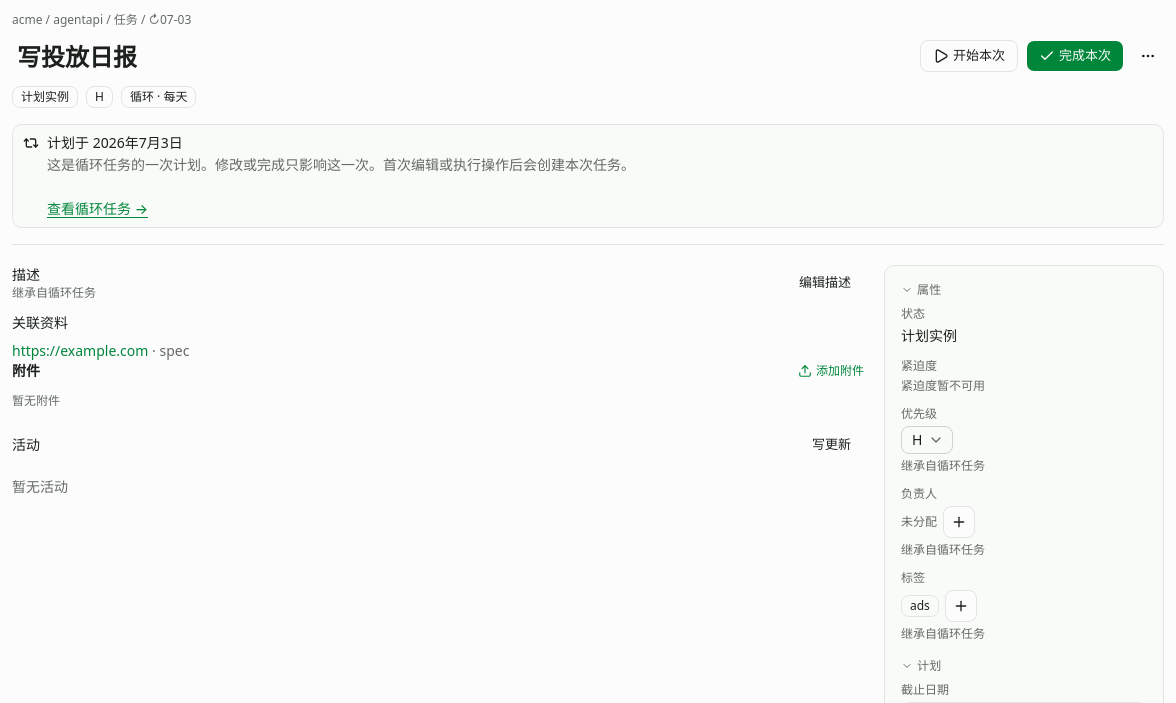
it: TaskDetailPage › keeps creation entries out of a projected occurrence's more-actions menu
This screenshot has width=1176, height=703.
Click the button named "更多操作 ↻07-03". click: point(1148, 56)
box: [1132,40,1164,72]
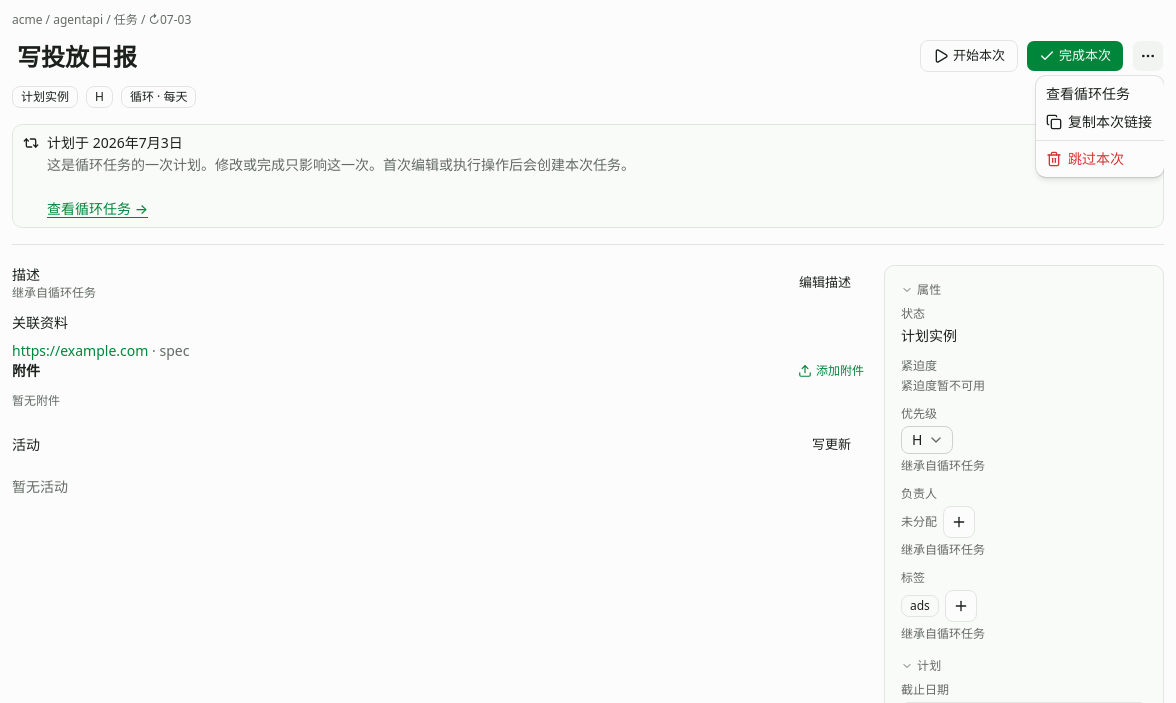
Check: the menu item "查看循环任务" is shown, box [1046,84,1130,103]
Check: the menu item "复制本次链接" is shown, box [1040,108,1160,136]
Check: the menu item "跳过本次" is shown, box [1046,149,1124,168]
